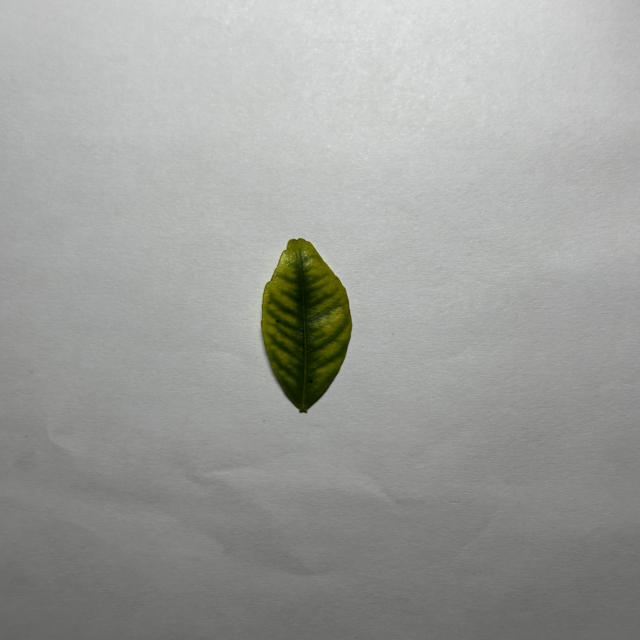greening: (261, 239, 352, 412)
